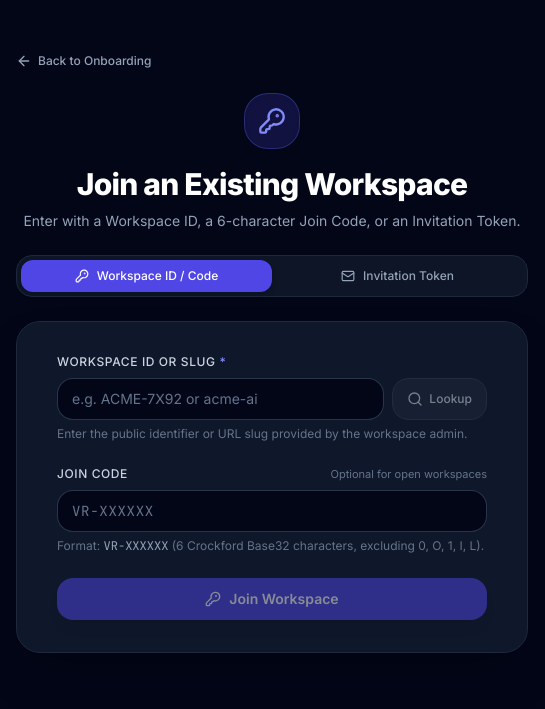
it: WS-A8: Create & Join Workspace Workflows › Join Workspace Workflow (/workspaces/join) › 6. Mode 1: Open Join succeeds without a Join Code and activates workspace session
In the field labelled "Workspace ID or Slug *": (221, 399) x1=57 y1=378 x2=384 y2=420, type "PUBLIC-SANDBOX"
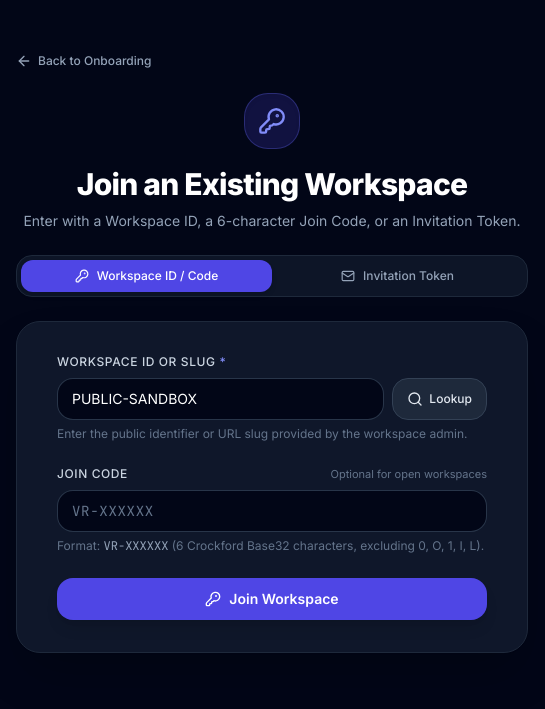
Click the button "Join Workspace": click(272, 599) x1=57 y1=578 x2=487 y2=620
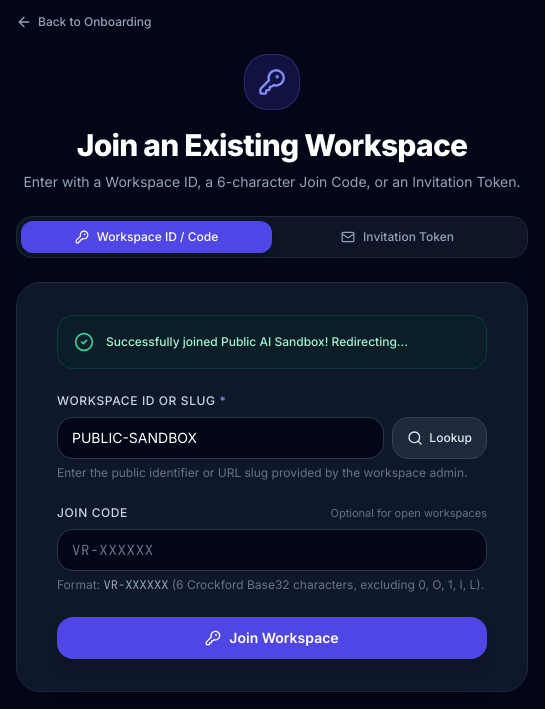
expect the text "Successfully joined Public AI Sandbox! Redirecting..." is shown: met, box x1=106 y1=334 x2=408 y2=350
